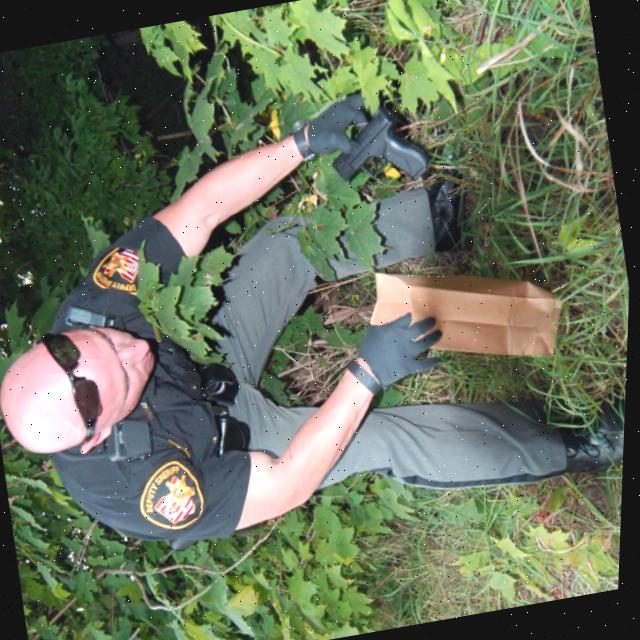pistol: (324, 101, 437, 189)
